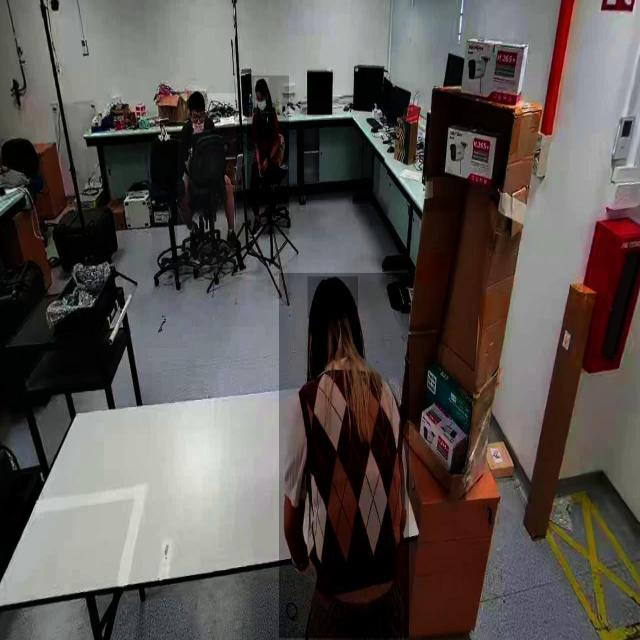face_mask: (191, 115, 210, 138), (256, 92, 268, 120)
hand_noglove: (256, 161, 264, 179), (223, 170, 232, 186), (260, 158, 268, 174)
head_nohelmet: (307, 277, 358, 319), (187, 91, 205, 109), (255, 77, 269, 91)
person: (279, 273, 409, 639), (177, 94, 237, 268), (247, 76, 289, 236)
shoes: (222, 220, 244, 257), (186, 217, 204, 261)
